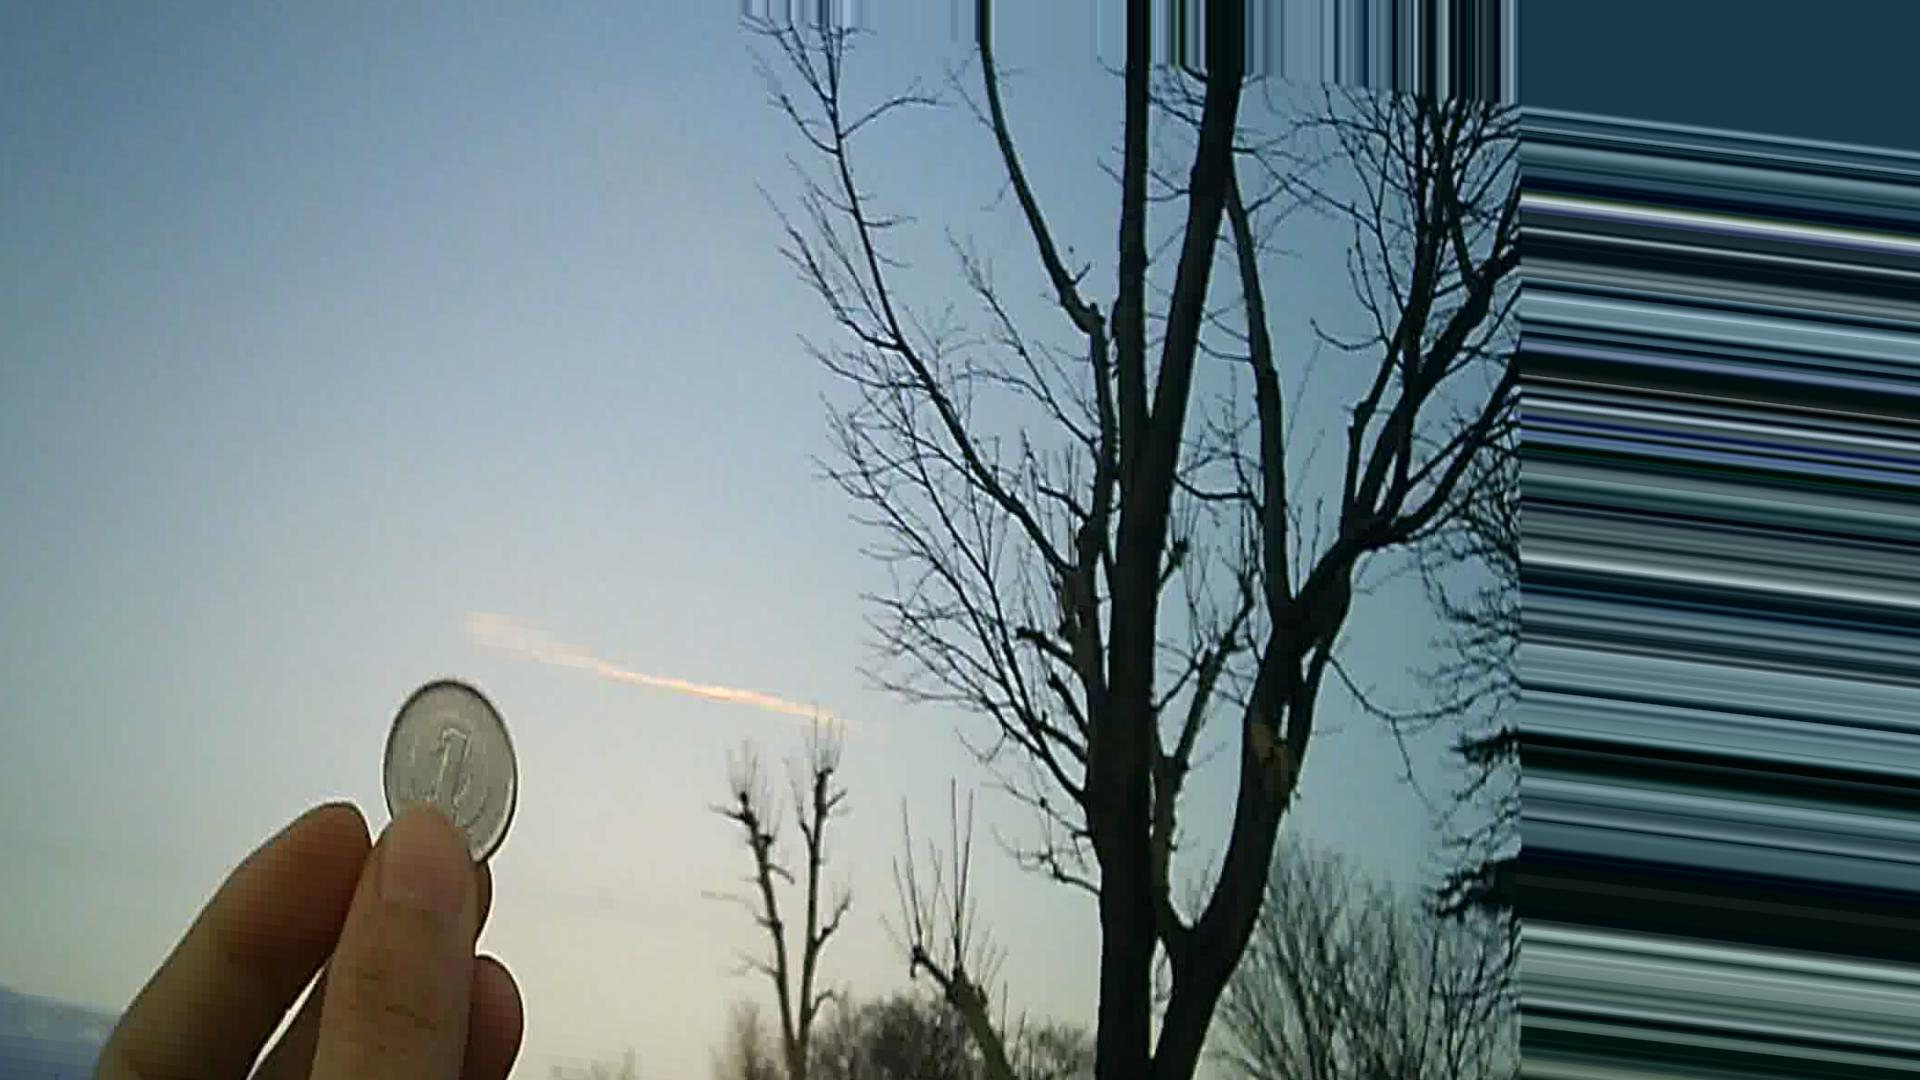1 Yen: (357, 673, 535, 872)
